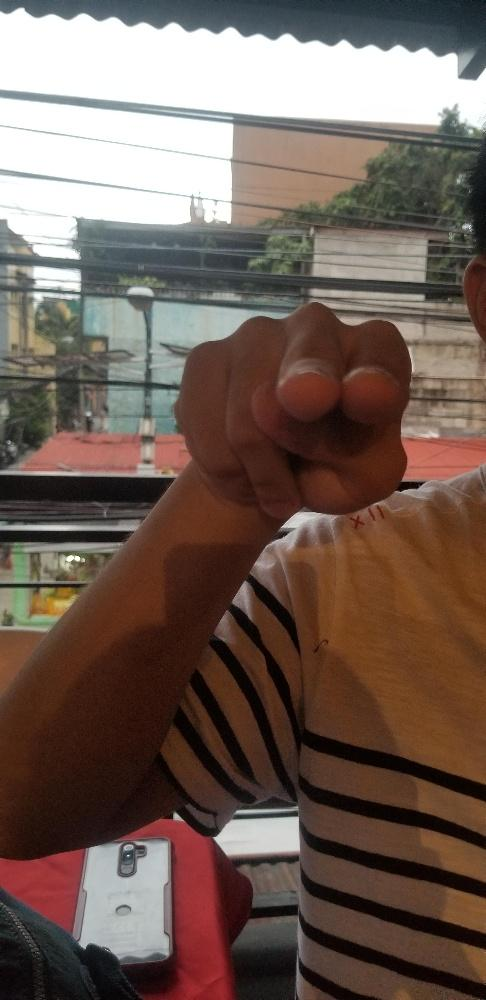n: (176, 300, 412, 519)
